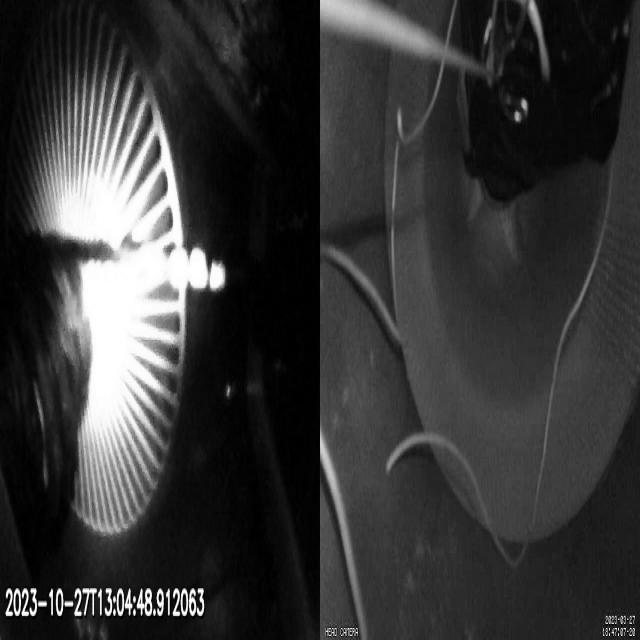white-dots: (168, 246, 226, 293)
